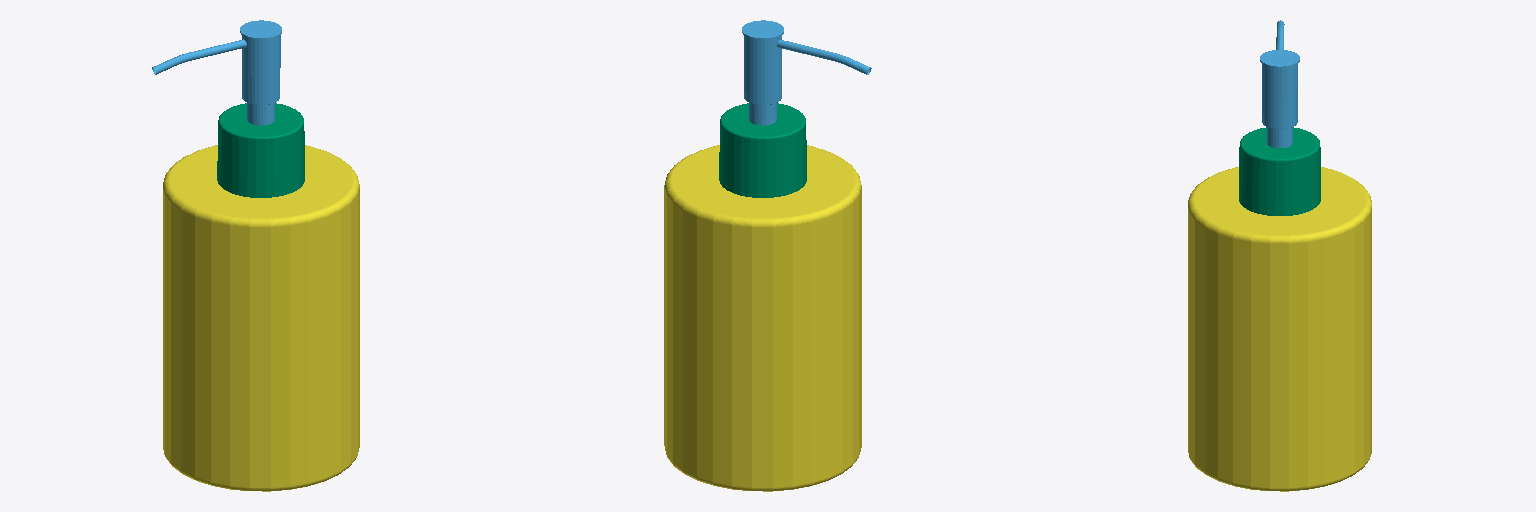
robot.urdf — partnet_2bbbe0e4-7f35-43a1-927c-d4c84e1af737:
<?xml version="1.0" ?>
<robot name="partnet_2bbbe0e4-7f35-43a1-927c-d4c84e1af737">
	<link name="base"/>
	<link name="link_0">
		<visual name="pressing_lid-4">
			<origin xyz="-0.00023957054153777642 0 0.0008269142929947662"/>
			<geometry>
				<mesh filename="textured_objs/original-2.obj" scale="0.18 0.18 0.18"/>
			</geometry>
		</visual>
		<visual name="pressing_lid-4">
			<origin xyz="-0.00023957054153777642 0 0.0008269142929947662"/>
			<geometry>
				<mesh filename="textured_objs/original-3.obj" scale="0.18 0.18 0.18"/>
			</geometry>
		</visual>
		<visual name="pressing_lid-4">
			<origin xyz="-0.00023957054153777642 0 0.0008269142929947662"/>
			<geometry>
				<mesh filename="textured_objs/original-8.obj" scale="0.18 0.18 0.18"/>
			</geometry>
		</visual>
		<visual name="pressing_lid-4">
			<origin xyz="-0.00023957054153777642 0 0.0008269142929947662"/>
			<geometry>
				<mesh filename="textured_objs/original-9.obj" scale="0.18 0.18 0.18"/>
			</geometry>
		</visual>
		<visual name="pressing_lid-4">
			<origin xyz="-0.00023957054153777642 0 0.0008269142929947662"/>
			<geometry>
				<mesh filename="textured_objs/original-12.obj" scale="0.18 0.18 0.18"/>
			</geometry>
		</visual>
		<visual name="pressing_lid-4">
			<origin xyz="-0.00023957054153777642 0 0.0008269142929947662"/>
			<geometry>
				<mesh filename="textured_objs/original-11.obj" scale="0.18 0.18 0.18"/>
			</geometry>
		</visual>
		<visual name="pressing_lid-4">
			<origin xyz="-0.00023957054153777642 0 0.0008269142929947662"/>
			<geometry>
				<mesh filename="textured_objs/original-14.obj" scale="0.18 0.18 0.18"/>
			</geometry>
		</visual>
		<collision>
			<origin xyz="-0.00023957054153777642 0 0.0008269142929947662"/>
			<geometry>
				<mesh filename="textured_objs/original-2.obj" scale="0.18 0.18 0.18"/>
			</geometry>
		</collision>
		<collision>
			<origin xyz="-0.00023957054153777642 0 0.0008269142929947662"/>
			<geometry>
				<mesh filename="textured_objs/original-3.obj" scale="0.18 0.18 0.18"/>
			</geometry>
		</collision>
		<collision>
			<origin xyz="-0.00023957054153777642 0 0.0008269142929947662"/>
			<geometry>
				<mesh filename="textured_objs/original-8.obj" scale="0.18 0.18 0.18"/>
			</geometry>
		</collision>
		<collision>
			<origin xyz="-0.00023957054153777642 0 0.0008269142929947662"/>
			<geometry>
				<mesh filename="textured_objs/original-9.obj" scale="0.18 0.18 0.18"/>
			</geometry>
		</collision>
		<collision>
			<origin xyz="-0.00023957054153777642 0 0.0008269142929947662"/>
			<geometry>
				<mesh filename="textured_objs/original-12.obj" scale="0.18 0.18 0.18"/>
			</geometry>
		</collision>
		<collision>
			<origin xyz="-0.00023957054153777642 0 0.0008269142929947662"/>
			<geometry>
				<mesh filename="textured_objs/original-11.obj" scale="0.18 0.18 0.18"/>
			</geometry>
		</collision>
		<collision>
			<origin xyz="-0.00023957054153777642 0 0.0008269142929947662"/>
			<geometry>
				<mesh filename="textured_objs/original-14.obj" scale="0.18 0.18 0.18"/>
			</geometry>
		</collision>
	</link>
	<joint name="joint_0_fixed" type="fixed">
		<origin xyz="0.0 0 0.0"/>
		<axis xyz="0 1 0"/>
		<child link="link_0"/>
		<parent link="link_0_helper"/>
	</joint>
	<link name="link_1">
		<visual name="head-6">
			<origin xyz="-0.00023957605634346607 0 0.0008269084772356527"/>
			<geometry>
				<mesh filename="textured_objs/original-6.obj" scale="0.18 0.18 0.18"/>
			</geometry>
		</visual>
		<collision>
			<origin xyz="-0.00023957605634346607 0 0.0008269084772356527"/>
			<geometry>
				<mesh filename="textured_objs/original-6.obj" scale="0.18 0.18 0.18"/>
			</geometry>
		</collision>
	</link>
	<joint name="joint_1_fixed" type="fixed">
		<origin xyz="0.0 0 0.0"/>
		<axis xyz="0 1 0"/>
		<child link="link_1"/>
		<parent link="link_1_helper"/>
	</joint>
	<link name="link_2">
		<visual name="base_body-8">
			<origin xyz="0 0 0"/>
			<geometry>
				<mesh filename="textured_objs/original-5.obj" scale="0.18 0.18 0.18"/>
			</geometry>
		</visual>
		<visual name="base_body-8">
			<origin xyz="0 0 0"/>
			<geometry>
				<mesh filename="textured_objs/original-1.obj" scale="0.18 0.18 0.18"/>
			</geometry>
		</visual>
		<collision>
			<origin xyz="0 0 0"/>
			<geometry>
				<mesh filename="textured_objs/original-5.obj" scale="0.18 0.18 0.18"/>
			</geometry>
		</collision>
		<collision>
			<origin xyz="0 0 0"/>
			<geometry>
				<mesh filename="textured_objs/original-1.obj" scale="0.18 0.18 0.18"/>
			</geometry>
		</collision>
	</link>
	<joint name="joint_2_fixed" type="fixed">
		<origin rpy="1.570796326794897 0 -1.570796326794897" xyz="0 0 0"/>
		<child link="link_2"/>
		<parent link="base"/>
	</joint>
	<link name="link_0_helper"/>
	<joint name="joint_0" type="prismatic">
		<origin xyz="-2.562916156982021e-08 0 2.788462077738588e-08"/>
		<axis xyz="0 -1 0"/>
		<child link="link_0_helper"/>
		<parent link="link_1"/>
		<limit lower="0" upper="0.09"/>
	</joint>
	<link name="link_1_helper"/>
	<joint name="joint_4_fixed" type="fixed">
		<origin xyz="0.00023957605634346607 0 -0.0008269084772356527"/>
		<axis xyz="0 1 0"/>
		<child link="link_1_helper"/>
		<parent link="link_2"/>
	</joint>
</robot>

--- Render facts (derived) ---
3 views of the same robot in one strip: view 1: azimuth 30°, elevation 25°; view 2: azimuth 150°, elevation 25°; view 3: azimuth 270°, elevation 25° (orthographic).
Model partnet_2bbbe0e4-7f35-43a1-927c-d4c84e1af737 with 6 links and 5 joints (1 prismatic, 4 fixed), rooted at base, posed every joint at zero.
Visible links, largest first — view 1: link_2, link_1, link_0; view 2: link_2, link_1, link_0; view 3: link_2, link_1, link_0.
Link boxes in pixels (<box>): link_2: <box>163,145,359,491</box>; link_1: <box>217,103,304,197</box>; link_0: <box>152,20,281,125</box>; link_2: <box>664,145,861,491</box>; link_1: <box>719,103,806,197</box>; link_0: <box>742,20,871,125</box>; link_2: <box>1188,167,1371,491</box>; link_1: <box>1239,127,1320,215</box>; link_0: <box>1260,20,1299,147</box>.
Size in the robot's own frame: 0.1361 by 0.1209 by 0.286 metres.
Meshes: 10 distinct files referenced, 10 mesh visuals loaded (10 OBJ).